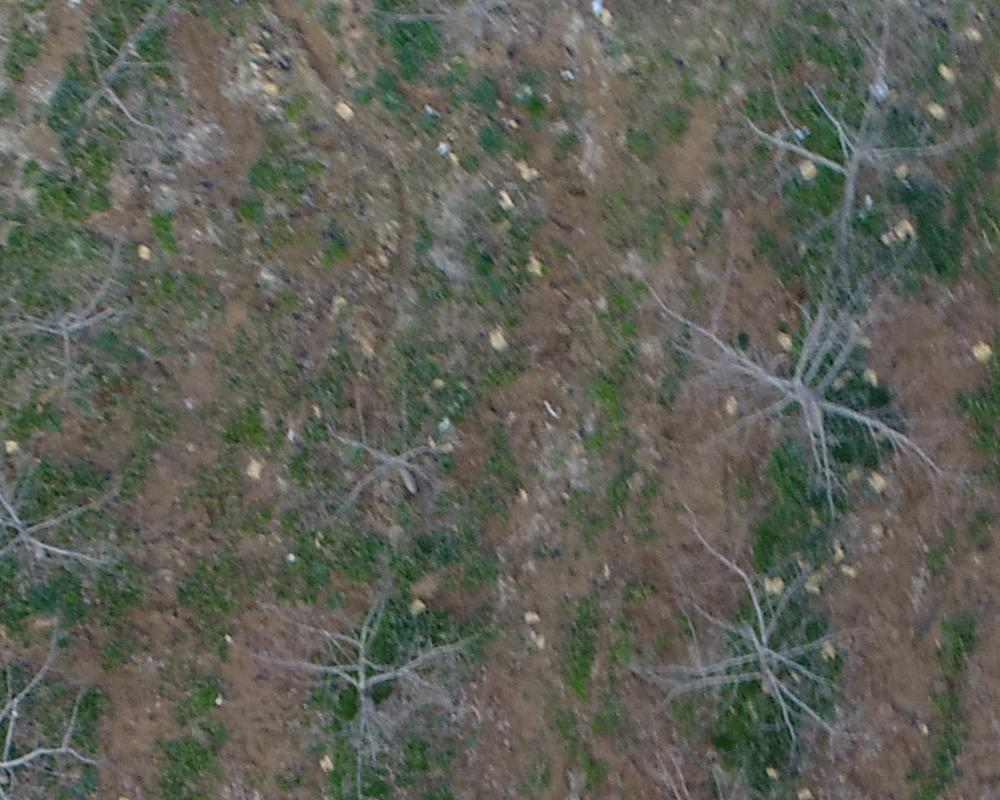apple: (604, 256, 975, 522), (593, 506, 902, 738), (734, 31, 990, 306), (250, 547, 514, 756), (275, 374, 486, 529), (10, 436, 164, 611), (10, 258, 182, 381)
